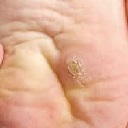Wart: (63, 56, 93, 86)
